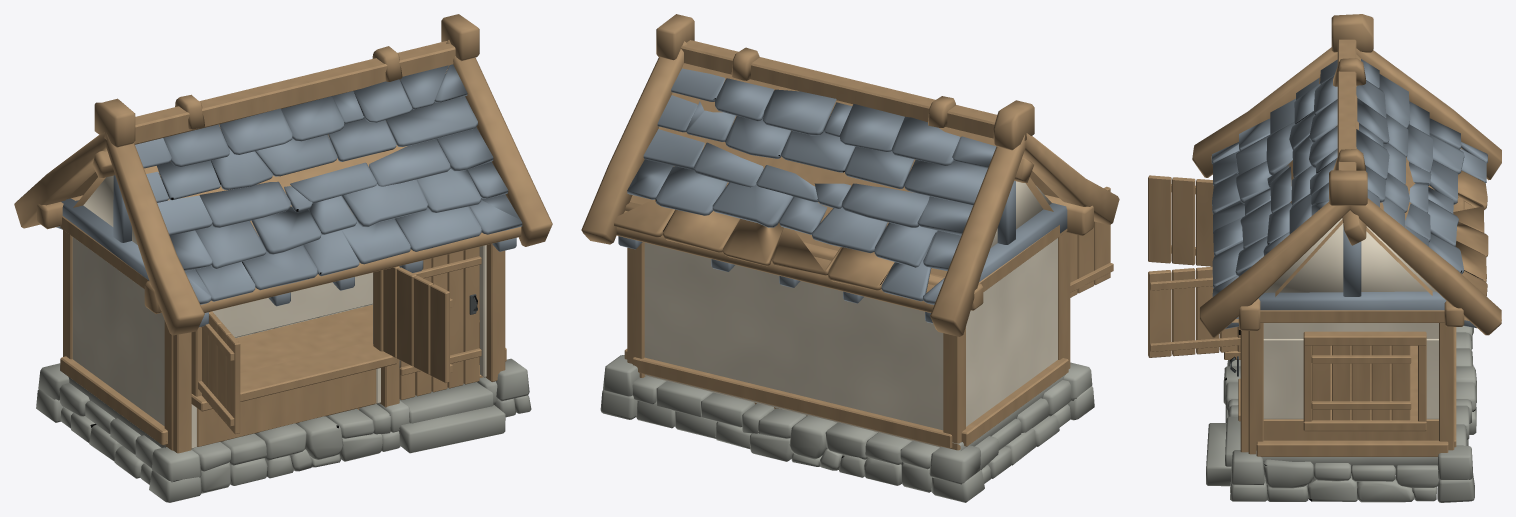
Rendered from seaside_shop.fbx.
3 renders of one model, left to right at view 1: azimuth 30°, elevation 25°; view 2: azimuth 150°, elevation 25°; view 3: azimuth 270°, elevation 25°, orthographic. The views are drawn at different scales.
Parts seen in each view (by area): view 1: seaside_shop_Body, seaside_shop_SalesShutterRight, seaside_shop_Door, seaside_shop_SalesShutterLeft; view 2: seaside_shop_Body, seaside_shop_SalesShutterLeft; view 3: seaside_shop_Body, seaside_shop_SideShutter, seaside_shop_SalesShutterRight, seaside_shop_SalesShutterLeft.
Boxes of the visible parts, left/top/right/bottom form: seaside_shop_Body: left=14, top=14, right=552, bottom=502; seaside_shop_SalesShutterRight: left=383, top=266, right=452, bottom=383; seaside_shop_Door: left=399, top=247, right=481, bottom=399; seaside_shop_SalesShutterLeft: left=198, top=311, right=240, bottom=434; seaside_shop_Body: left=581, top=14, right=1119, bottom=502; seaside_shop_SalesShutterLeft: left=1070, top=186, right=1113, bottom=297; seaside_shop_Body: left=1192, top=14, right=1501, bottom=502; seaside_shop_SideShutter: left=1311, top=345, right=1411, bottom=420; seaside_shop_SalesShutterRight: left=1148, top=266, right=1240, bottom=357; seaside_shop_SalesShutterLeft: left=1148, top=175, right=1214, bottom=266.
Size of the model in its own units: 4 by 3.5 by 3.43.
1 material, 1 textured.
